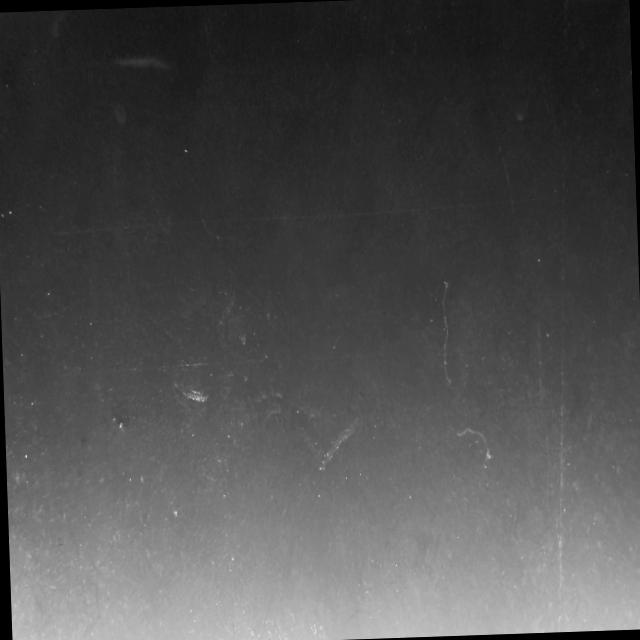beta: (538, 103, 584, 632), (479, 75, 520, 228), (213, 267, 237, 332), (438, 278, 452, 388), (454, 426, 492, 463)
